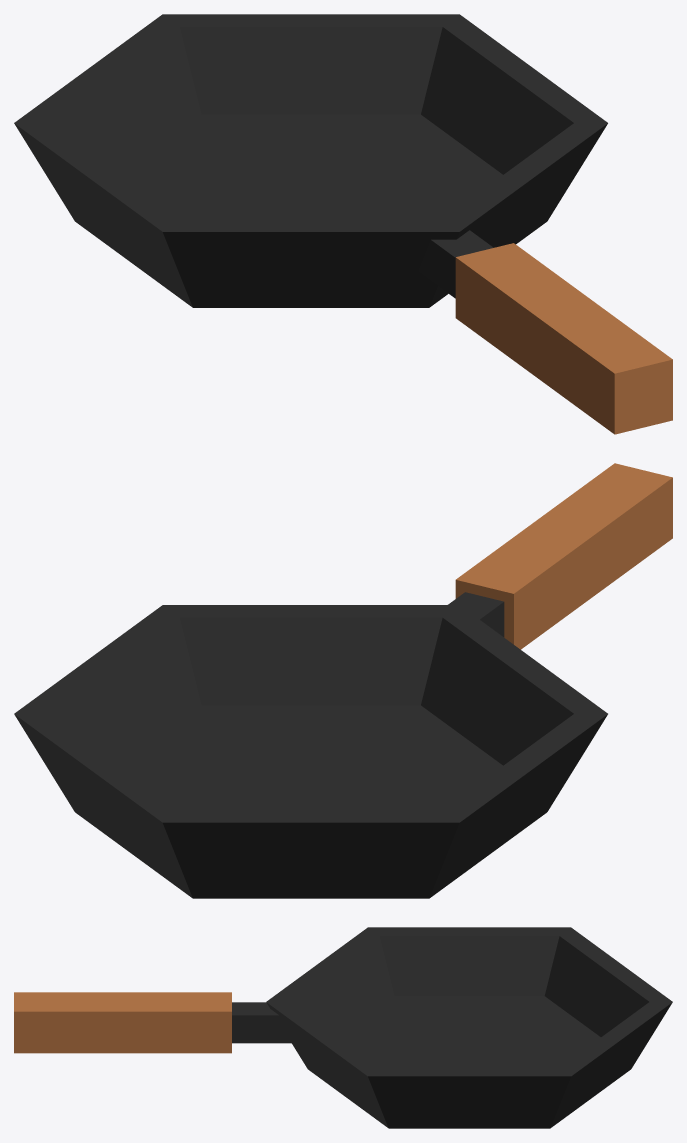
The model's file is roastingPan3_PLY.fbx.
3 renders of one model, top to bottom at view 1: azimuth 30°, elevation 25°; view 2: azimuth 150°, elevation 25°; view 3: azimuth 270°, elevation 25°, orthographic. The views are drawn at different scales.
Visible parts, largest first — view 1: roastingPan3_PLY; view 2: roastingPan3_PLY; view 3: roastingPan3_PLY.
Boxes of the visible parts, x1,y1,x2,y2 form: roastingPan3_PLY: (14, 14, 672, 434); roastingPan3_PLY: (14, 463, 672, 898); roastingPan3_PLY: (14, 927, 672, 1128).
Size of the model in its own units: 1.21 by 0.2558 by 2.27.
